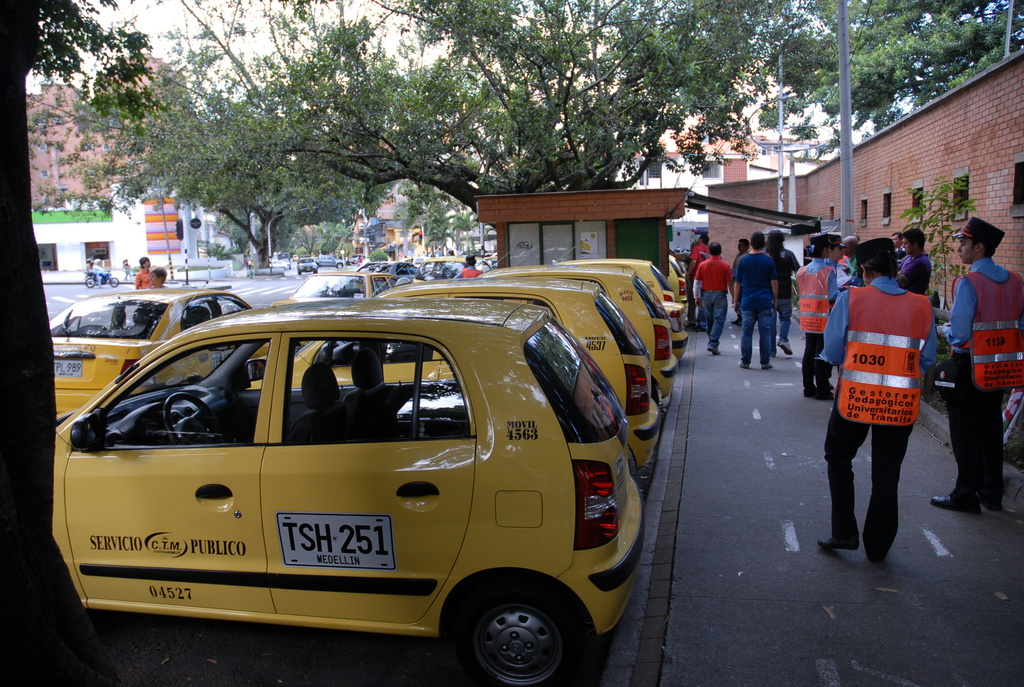mobil: (40, 299, 634, 667)
